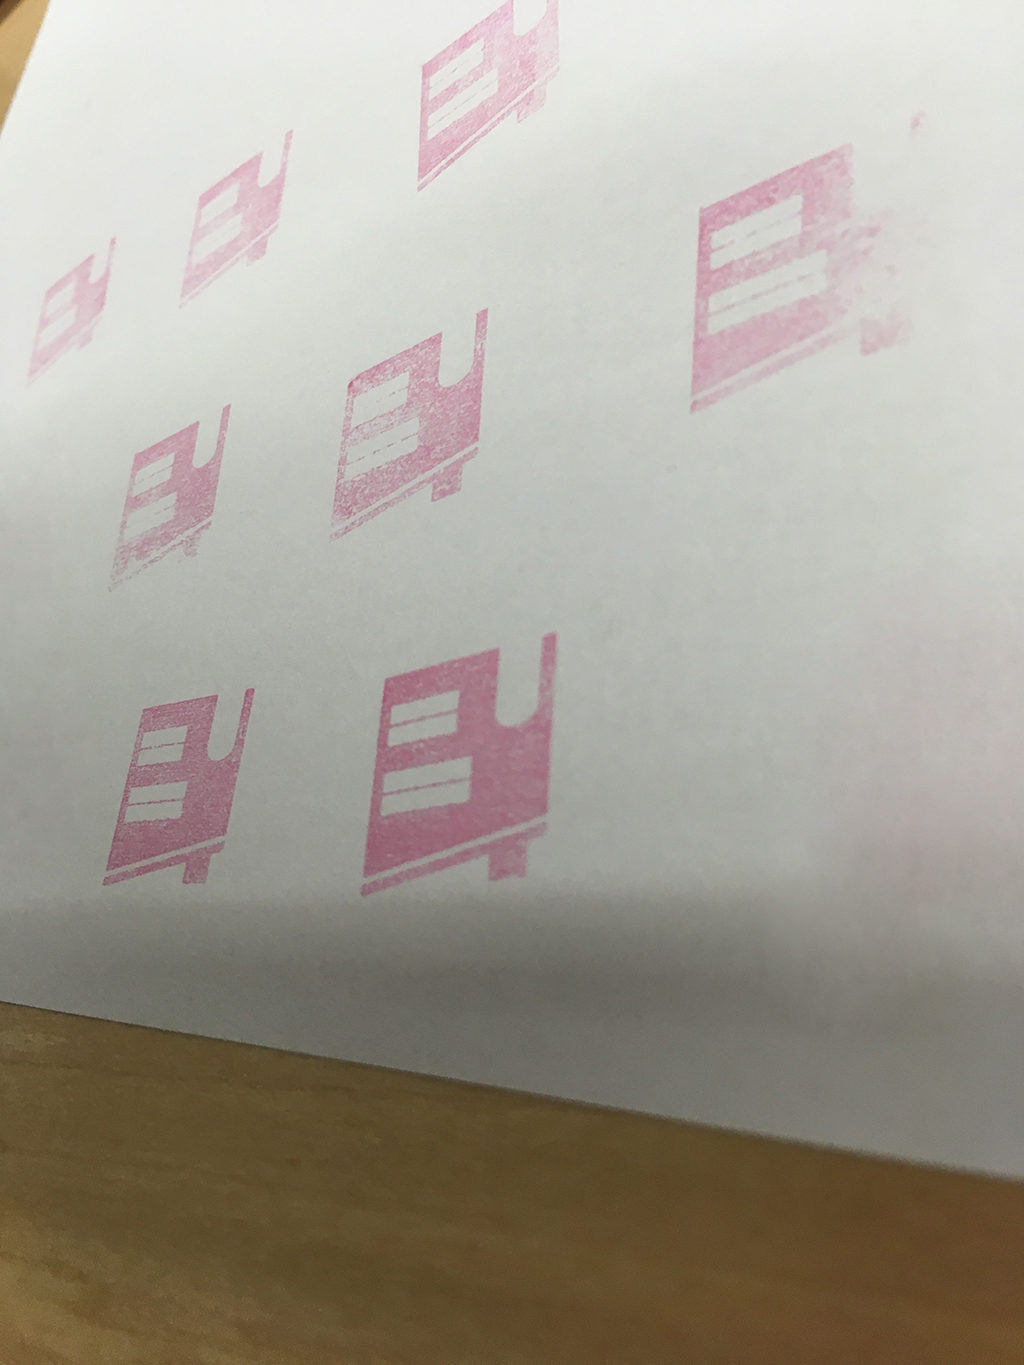house: (662, 93, 968, 425), (343, 618, 585, 921), (90, 679, 270, 919), (328, 298, 490, 551), (400, 1, 583, 208), (100, 397, 237, 600), (171, 115, 300, 313), (22, 231, 128, 393)
